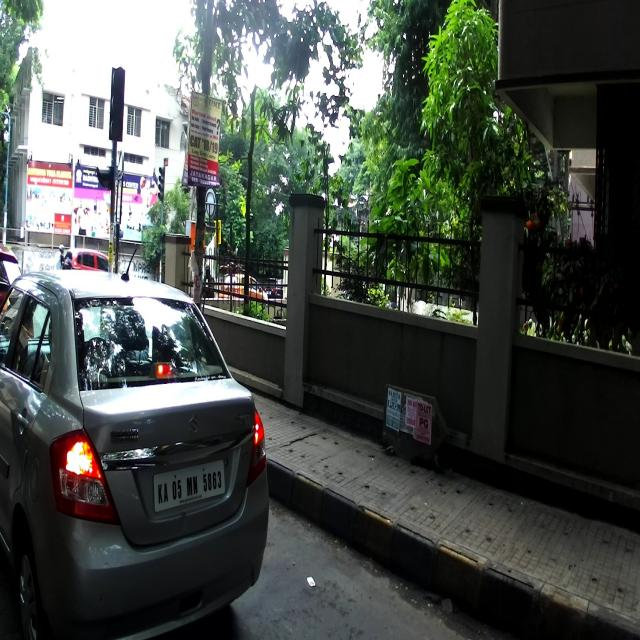Car_Maruti-Suzuki: (1, 245, 270, 638)
